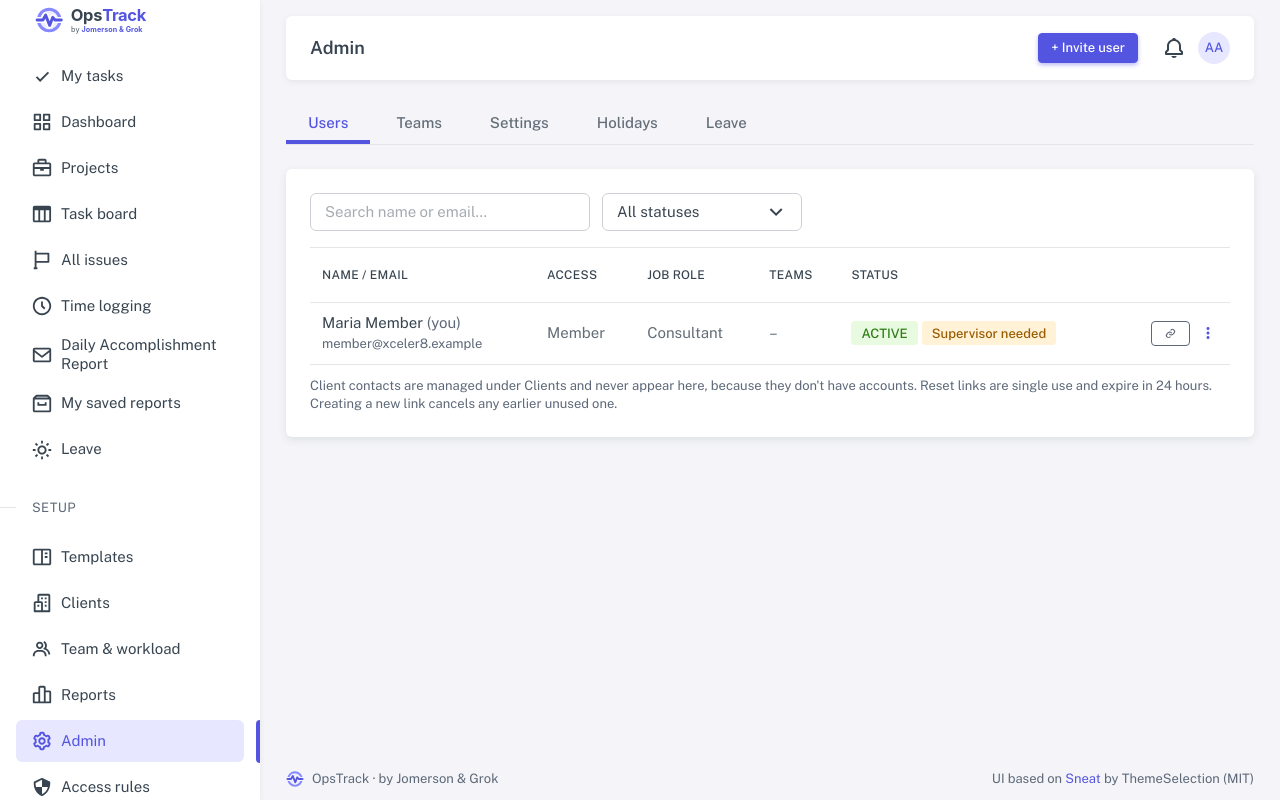
Test case: Role-gated UI › an Admin opens the invite form with separate Access role and Job role fields (TC-B09)
Step 1. Click the button "+ Invite user" → [1088, 48], box [1038,33,1138,63]
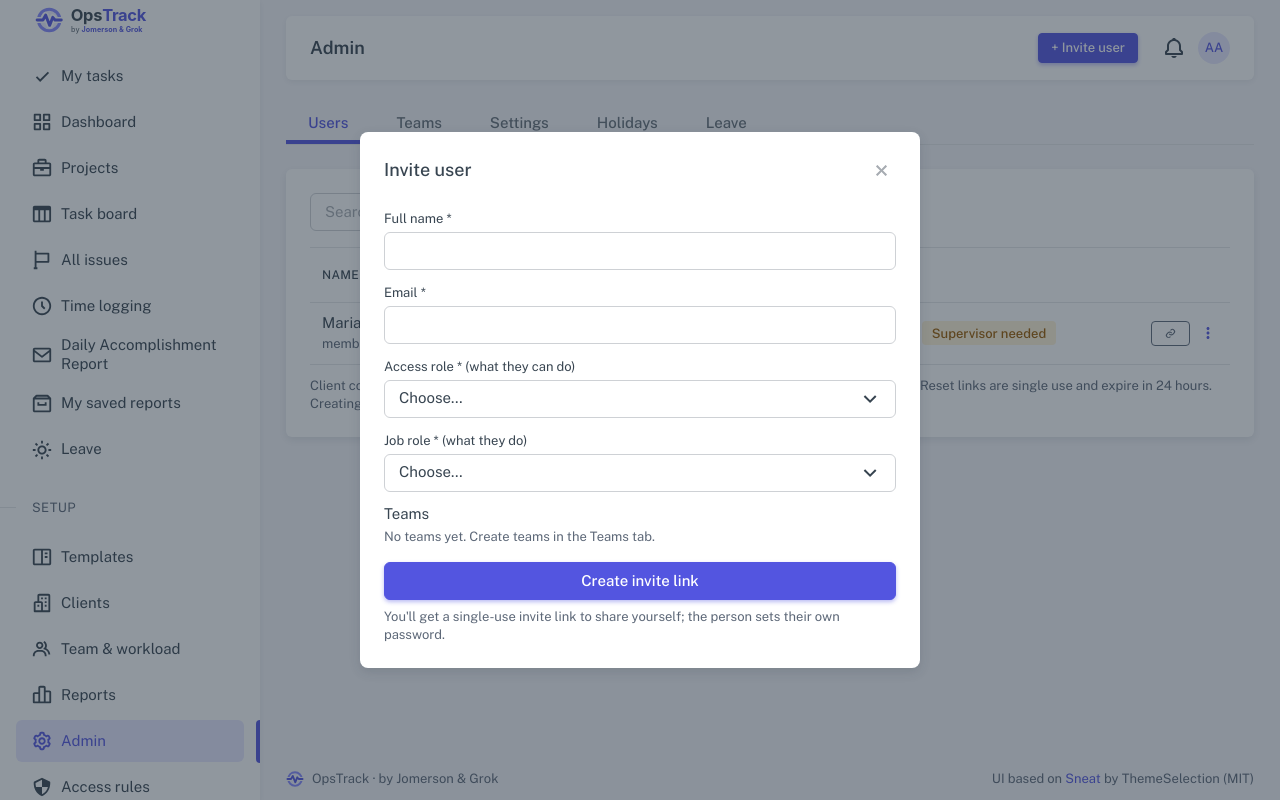
Expected: the text "member@xceler8.example" is shown, [322,336,482,351]
Now the dropdown labelled "Access role * (what they can do)" is shown, box [384,380,896,418]
Now the dropdown labelled "Job role * (what they do)" is shown, box [384,454,896,492]
